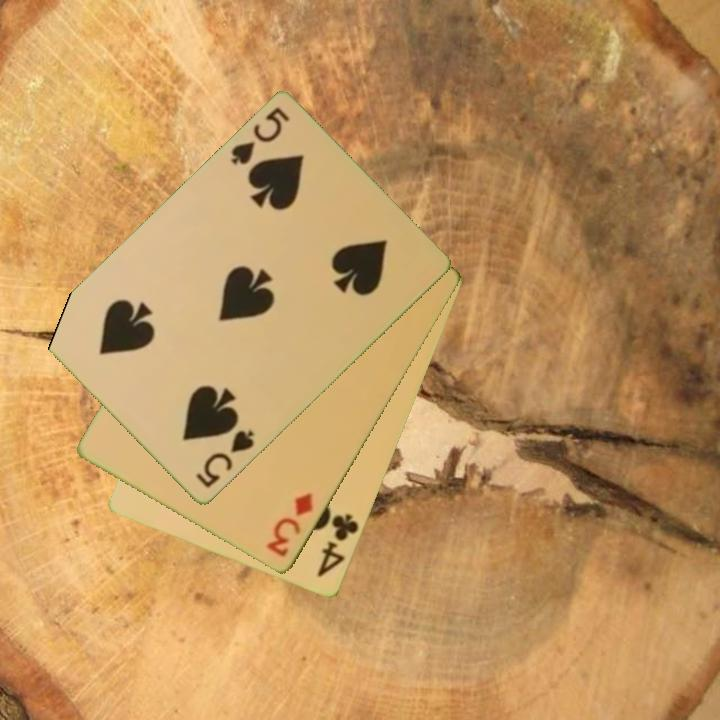3d: (263, 489, 316, 561)
4c: (313, 510, 362, 581)
5s: (192, 426, 258, 492), (227, 104, 293, 169)
